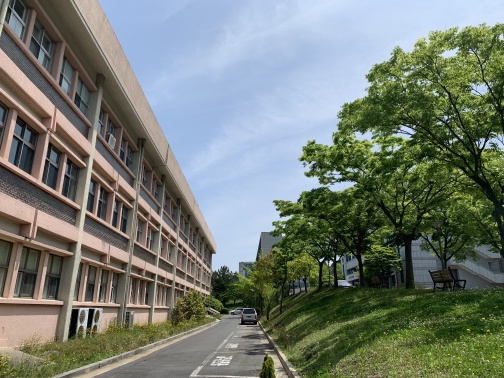College Of Education: (1, 8, 214, 364)
